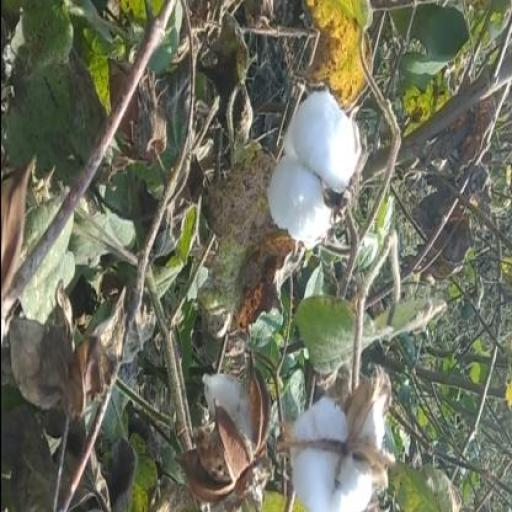cotton_ready: (258, 72, 361, 274), (281, 364, 396, 511)
